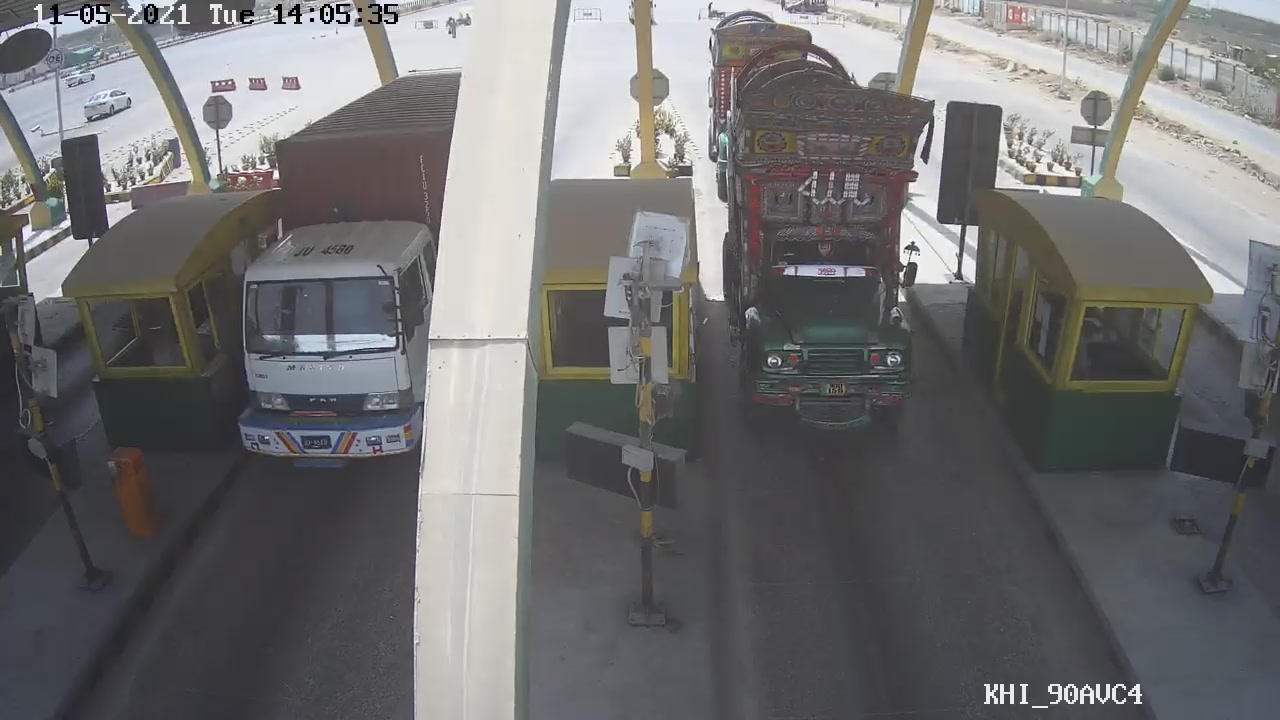F5: (711, 77, 948, 448)
